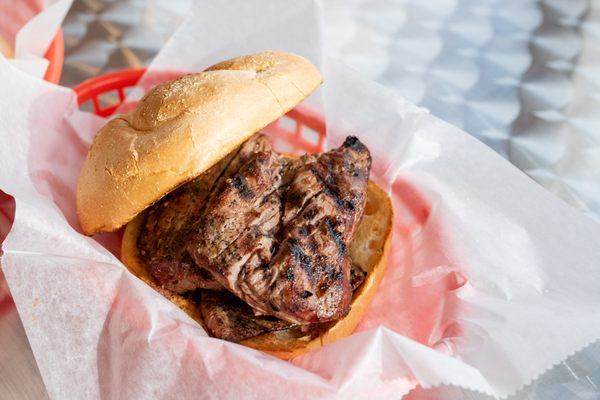soup: (73, 49, 393, 360), (119, 132, 395, 361), (74, 50, 324, 233)
